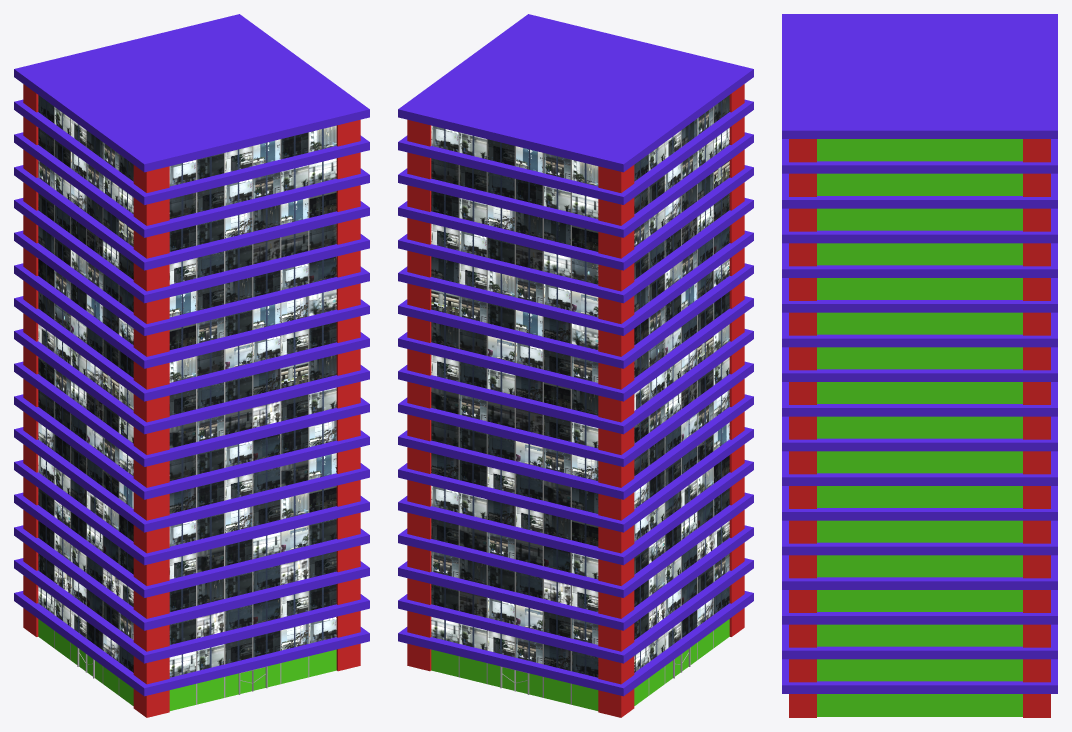
3 renders of one model, left to right at view 1: azimuth 30°, elevation 25°; view 2: azimuth 150°, elevation 25°; view 3: azimuth 270°, elevation 25°, orthographic. The views are drawn at different scales.
Visible parts, largest first — view 1: Building_01; view 2: Building_01; view 3: Building_01.
Part boxes in pixels (x1=…): Building_01: x1=14, y1=14, x2=369, y2=717; Building_01: x1=398, y1=14, x2=753, y2=717; Building_01: x1=782, y1=14, x2=1057, y2=717.
Size of the model in its own units: 2432 by 5745 by 2432.
